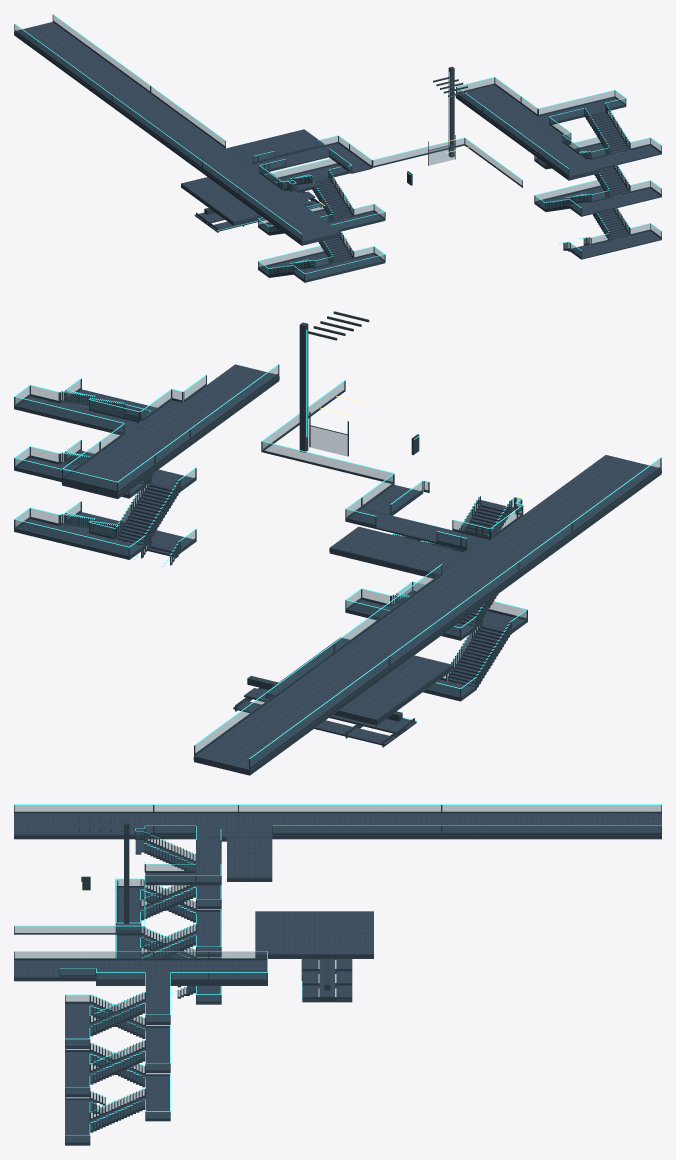
Rendered from v02-detailed-04-06-coffered.glb.
The picture shows the model from 3 angles, top to bottom: view 1: azimuth 30°, elevation 25°; view 2: azimuth 150°, elevation 25°; view 3: azimuth 270°, elevation 25°; orthographic projection. The views are drawn at different scales.
Visible parts, largest first — view 1: v02-detailed-04-06-coffered; view 2: v02-detailed-04-06-coffered; view 3: v02-detailed-04-06-coffered.
Boxes of the visible parts, x1,y1,x2,y2 form: v02-detailed-04-06-coffered: [14, 14, 661, 282]; v02-detailed-04-06-coffered: [14, 311, 661, 775]; v02-detailed-04-06-coffered: [14, 804, 661, 1145].
Size of the model in its own units: 58.85 by 29.42 by 76.5.
Materials: 5 (1 with a texture image).
